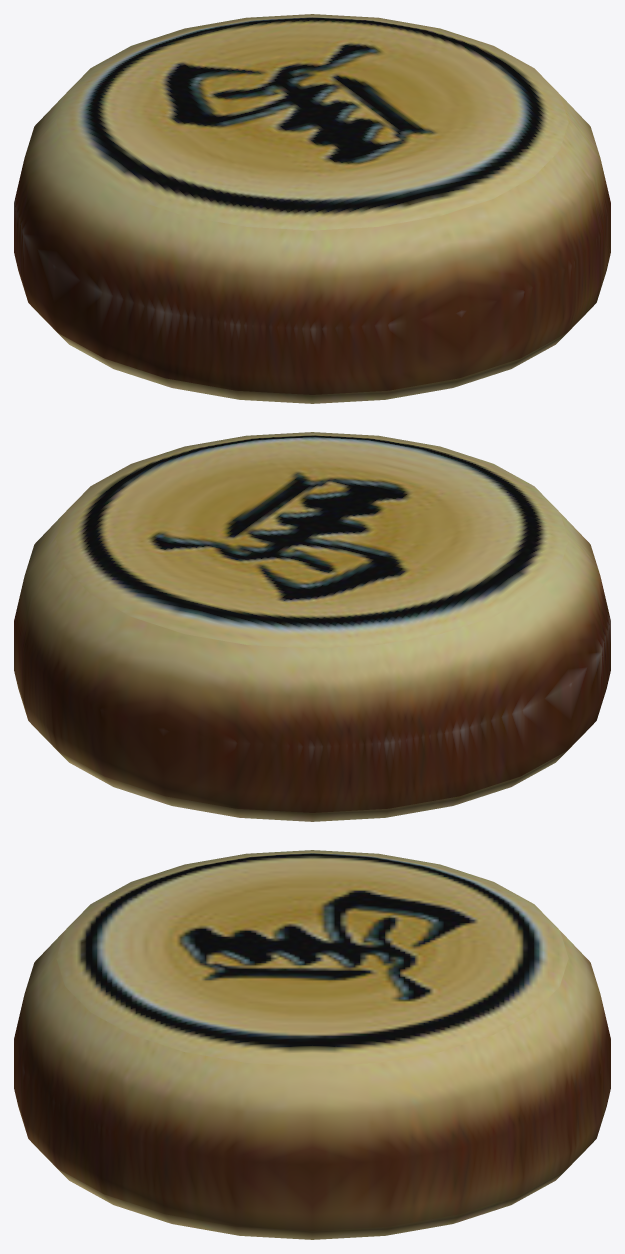
Rendered from Black_07_horse_right.gltf.
3 renders of one model, top to bottom at view 1: azimuth 30°, elevation 25°; view 2: azimuth 150°, elevation 25°; view 3: azimuth 270°, elevation 25°, orthographic.
Visible parts, largest first — view 1: Black_07_horse_right; view 2: Black_07_horse_right; view 3: Black_07_horse_right.
Boxes of the visible parts, box(x1,y1,x2,y2) form: Black_07_horse_right: box(14, 14, 610, 403); Black_07_horse_right: box(14, 432, 610, 821); Black_07_horse_right: box(14, 850, 610, 1239).
Size of the model in its own units: 0.0468 by 0.0155 by 0.0468.
1 material, 1 textured.
